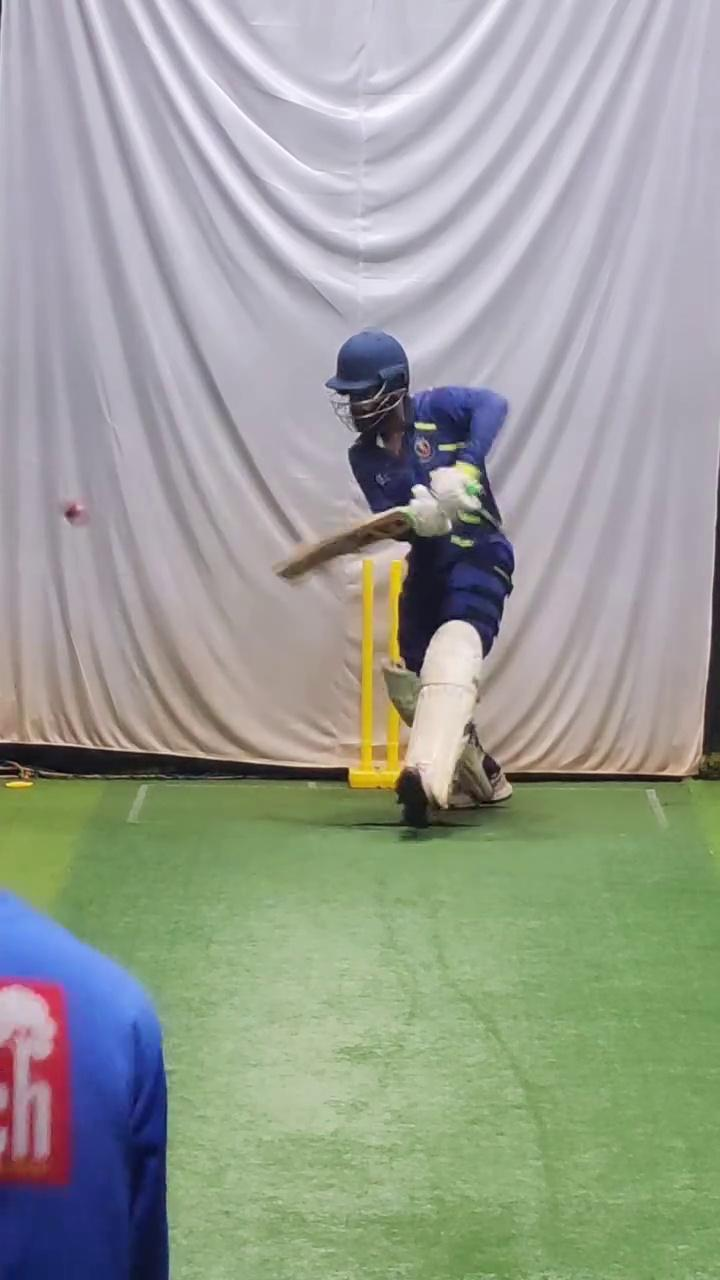bat: (267, 500, 416, 591)
